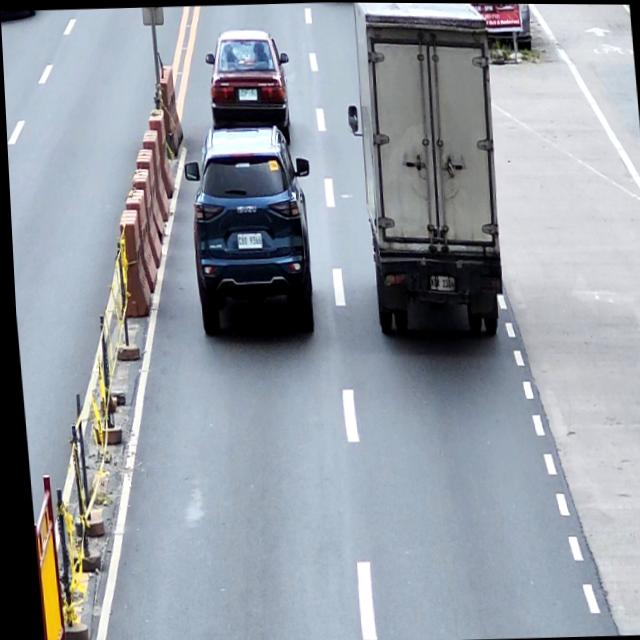Car: (178, 124, 321, 338), (203, 26, 295, 148)
License-Plate: (426, 273, 452, 291), (234, 233, 259, 248), (238, 87, 256, 100)
Truck: (338, 2, 512, 347)
